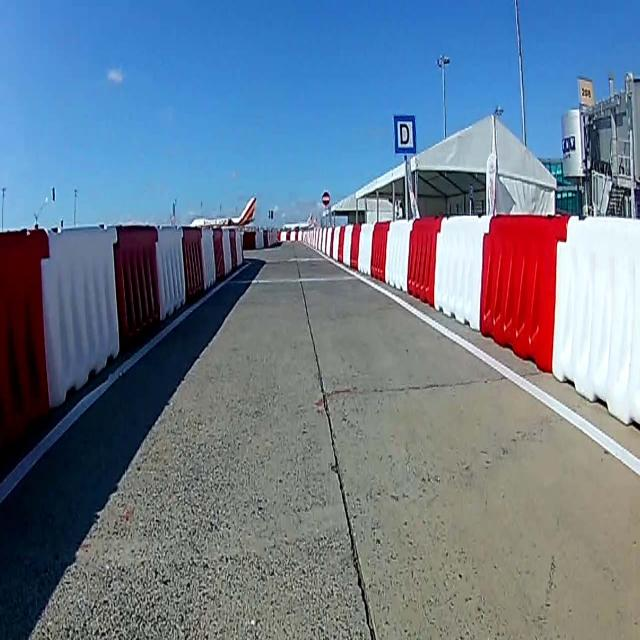durak: (393, 113, 416, 155)
girisyok: (321, 190, 331, 207)
